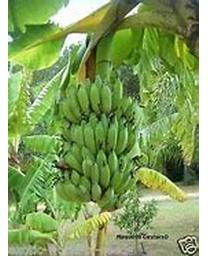banana: (56, 77, 142, 214)
